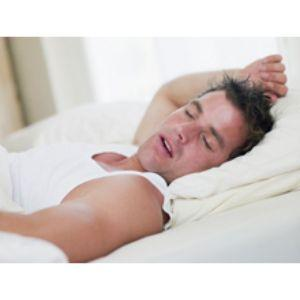sleep: (2, 36, 300, 264), (144, 97, 232, 169)
